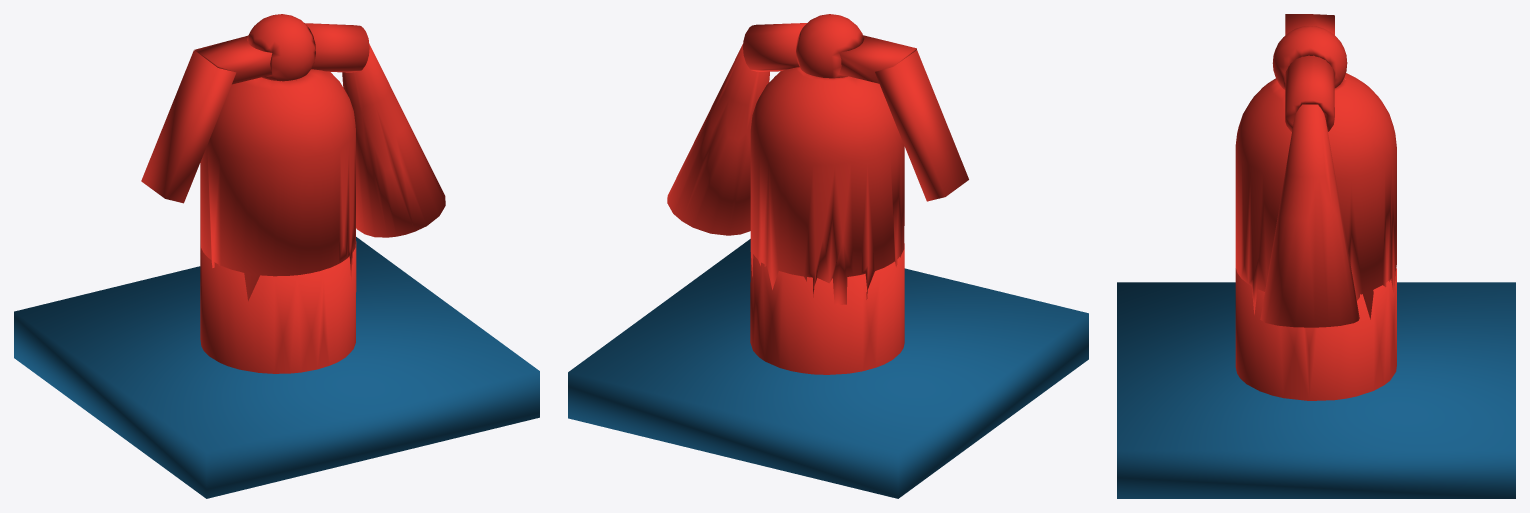
The model's file is w_extinguisher.glb.
3 views of the same model, side by side, from view 1: azimuth 30°, elevation 25°; view 2: azimuth 150°, elevation 25°; view 3: azimuth 270°, elevation 25° (orthographic). The views are drawn at different scales.
Visible parts, largest first — view 1: figura, basetta; view 2: figura, basetta; view 3: basetta, figura.
Part boxes in pixels (left/top/right/bottom): figura: left=141, top=14, right=445, bottom=373; basetta: left=14, top=237, right=539, bottom=498; figura: left=667, top=14, right=968, bottom=374; basetta: left=568, top=239, right=1088, bottom=498; basetta: left=1117, top=282, right=1515, bottom=498; figura: left=1235, top=14, right=1396, bottom=400.
Bounding box in the file's own units: 0.015 × 0.016 × 0.015.
